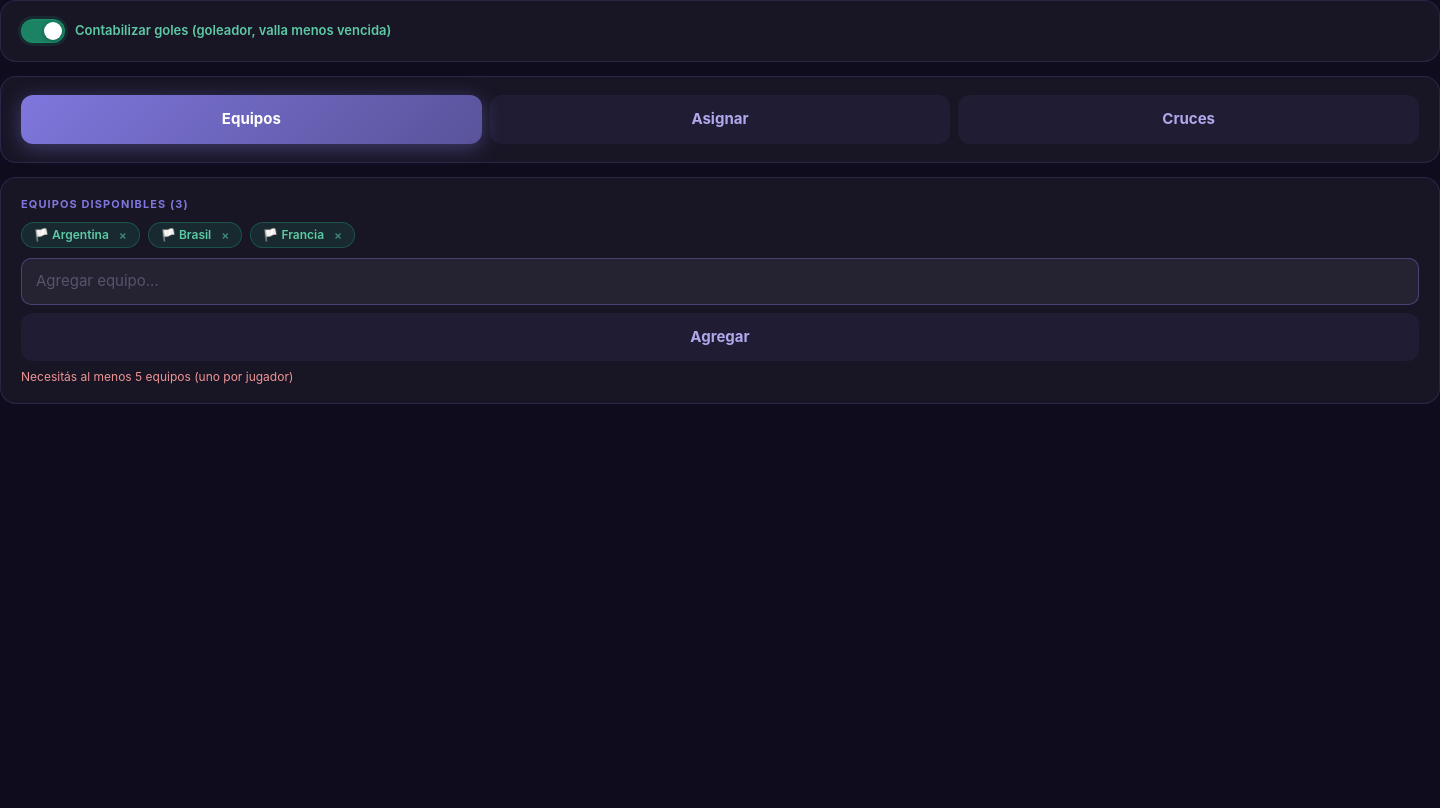
Scenario: Torneo de Fútbol ConfigPanel › Cruces preview gives each trailing entrant their own solo bye, matching buildBracket exactly
What coordinates should you click on to do the following:
click the button "Cruces"
I would click on:
 (1189, 119)
Its box is [958,95,1419,144].
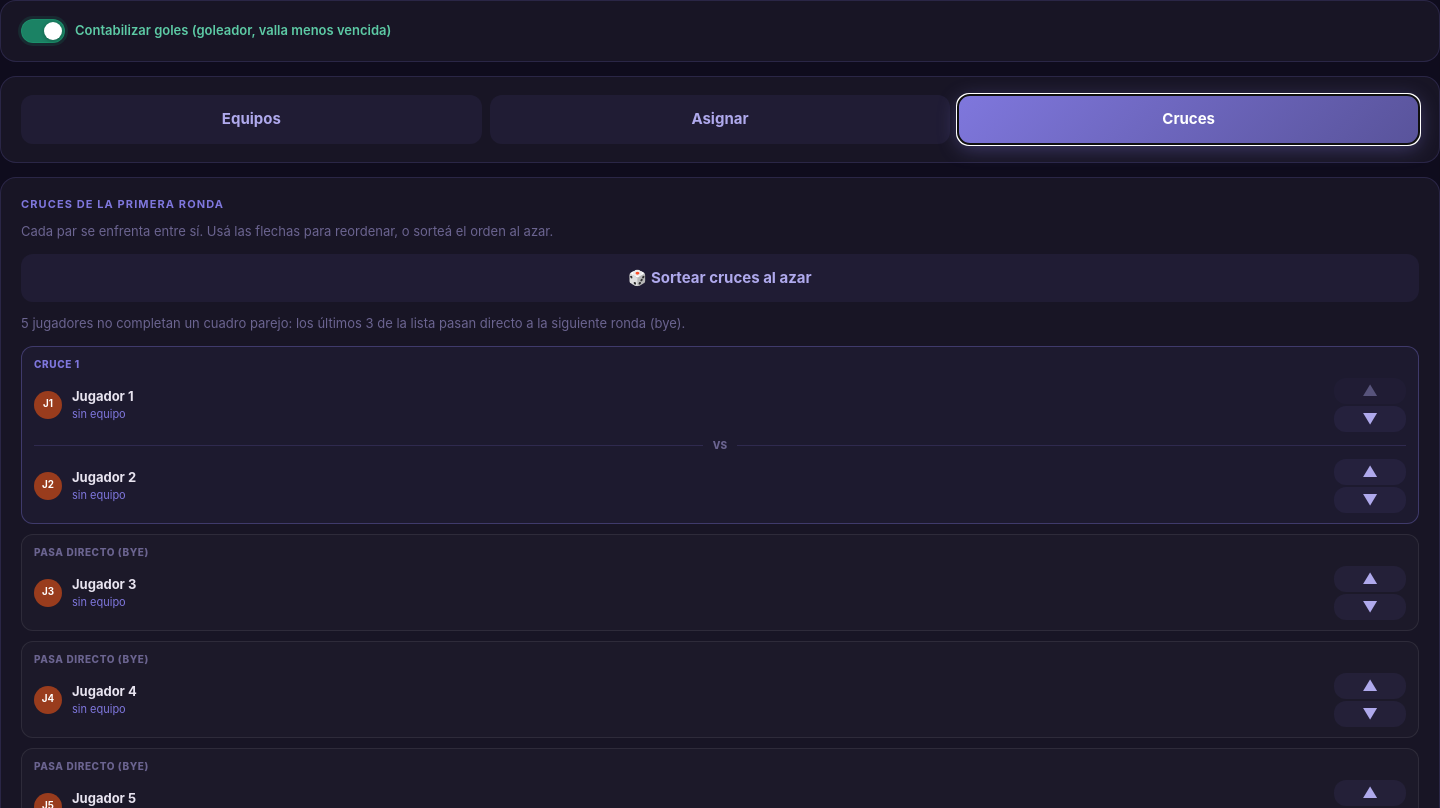
Expected: the text "Cruce 1" is shown, [34,358,80,370]
Expected: the text "Pasa directo (bye)" is shown 3 times, [34,546,149,558]; [34,652,149,664]; [34,760,149,772]
Expected: the text "Jugador 3" is shown, [72,576,136,592]
